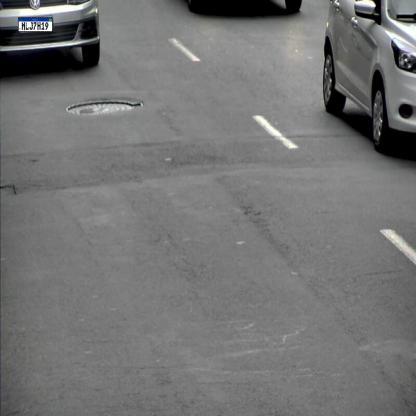PlacaM: (18, 17, 53, 32)
